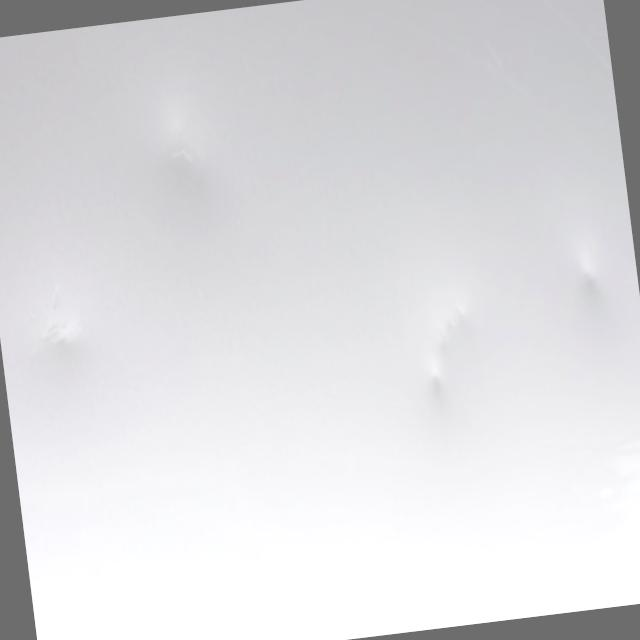dent: (412, 283, 488, 387), (33, 276, 94, 357), (161, 126, 212, 186), (571, 256, 611, 314)
